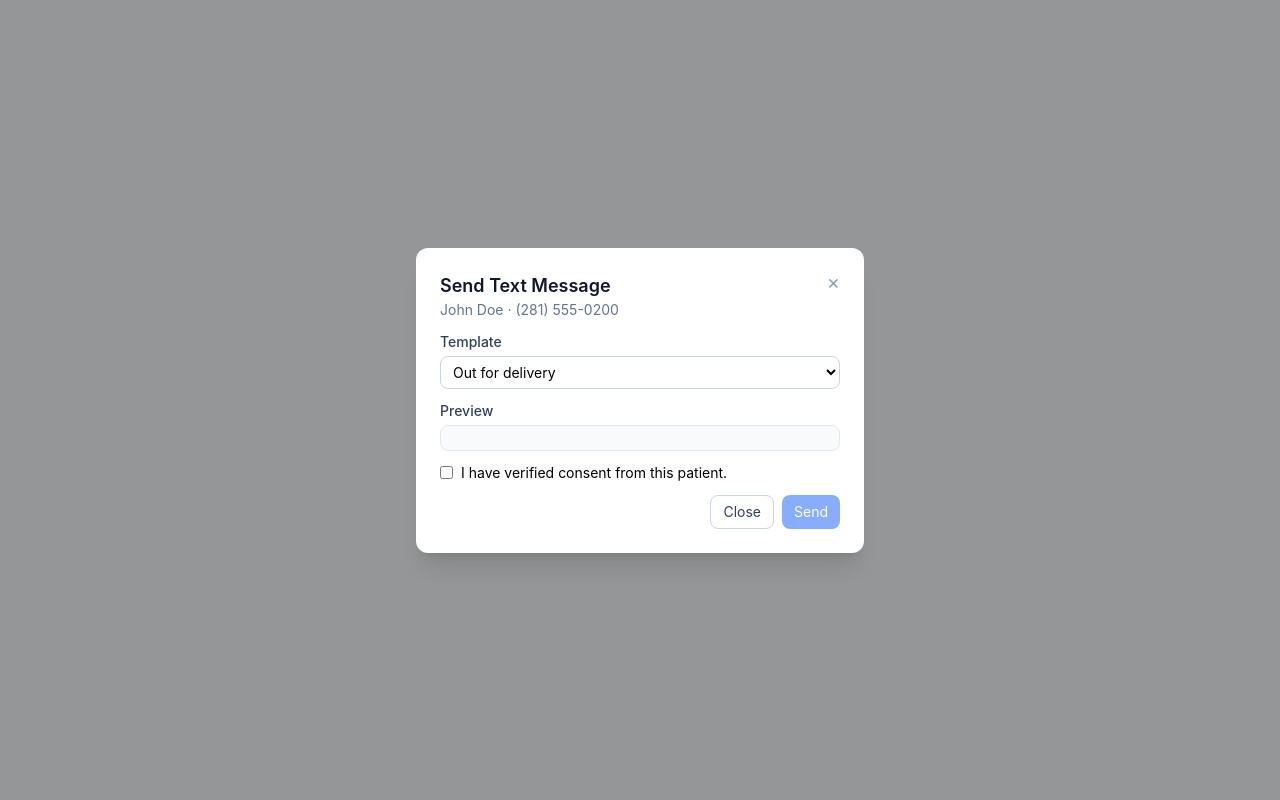
Scenario: <SendTextModal /> › requires consent checkbox in manual_confirm policy
Check: the button "Send" is disabled, box x1=782 y1=494 x2=840 y2=528
What coordinates should you click on to do the following:
click the checkbox labelled "I have verified consent from this patient."
I would click on:
 (446, 472)
Its box is x1=440 y1=466 x2=453 y2=479.
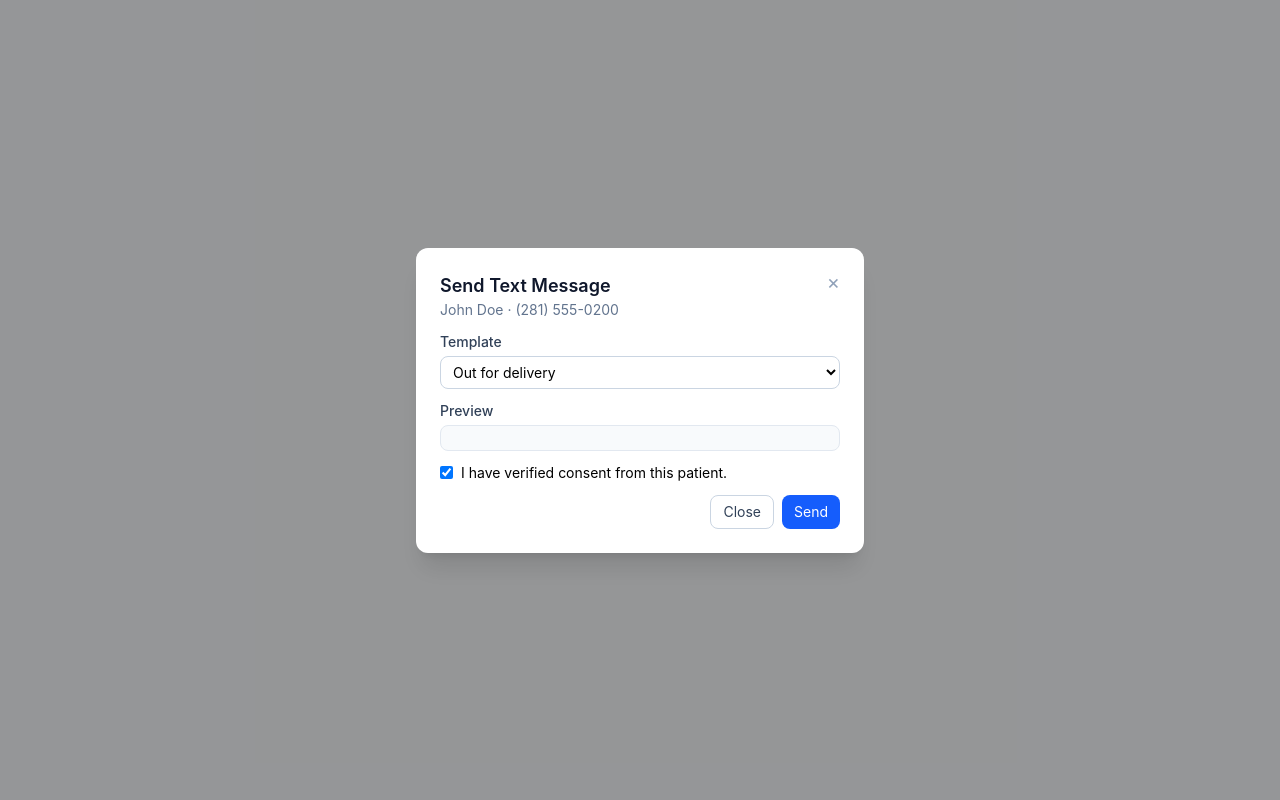
Check: the button "Send" is enabled, box x1=782 y1=494 x2=840 y2=528
